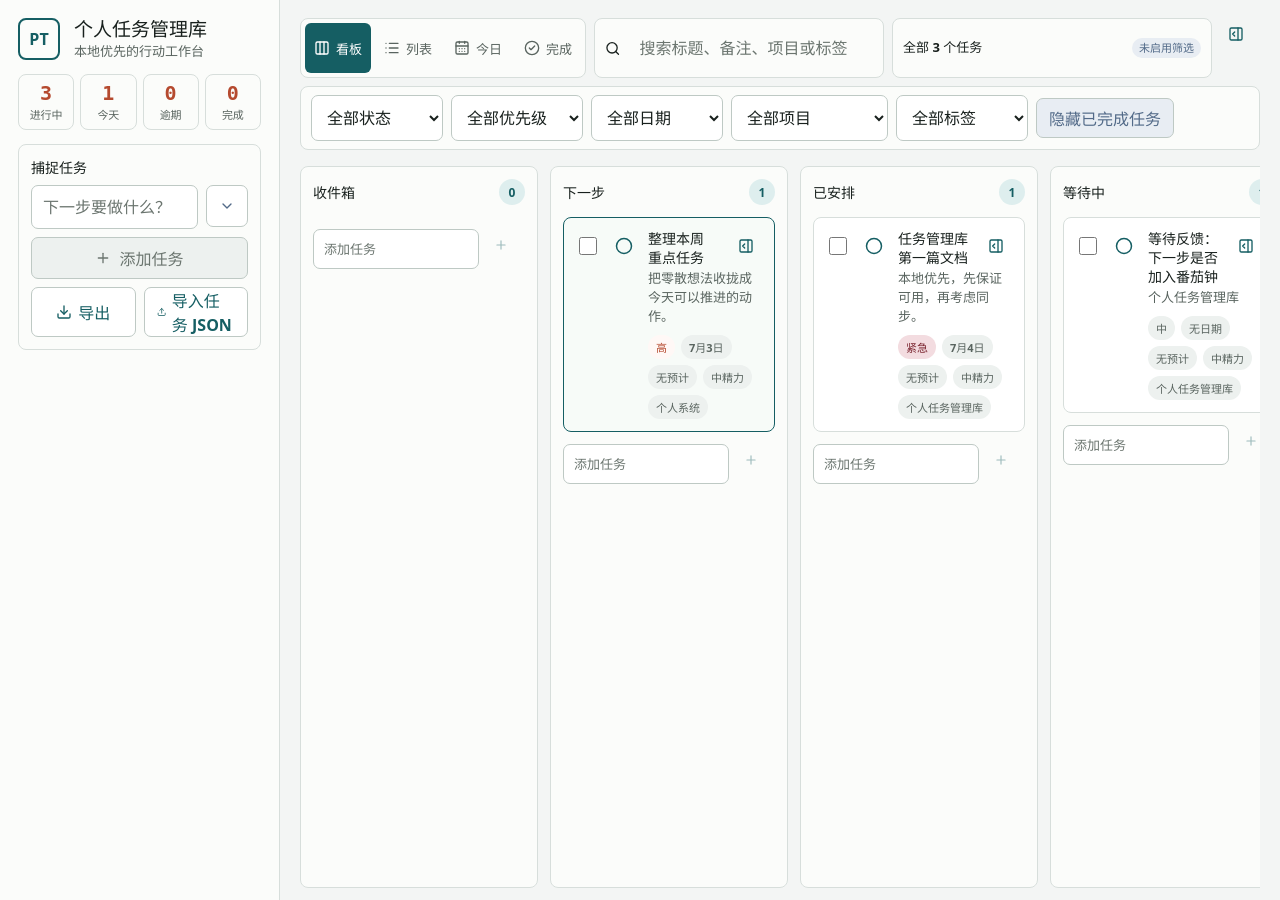
Test: TaskWorkspace › filters tasks by project and label, then clears filters
The width and height of the screenshot is (1280, 900).
Step 1. Select "个人系统" in the dropdown named "按项目筛选" → {"x": 810, "y": 118}, box [731,95,888,141]
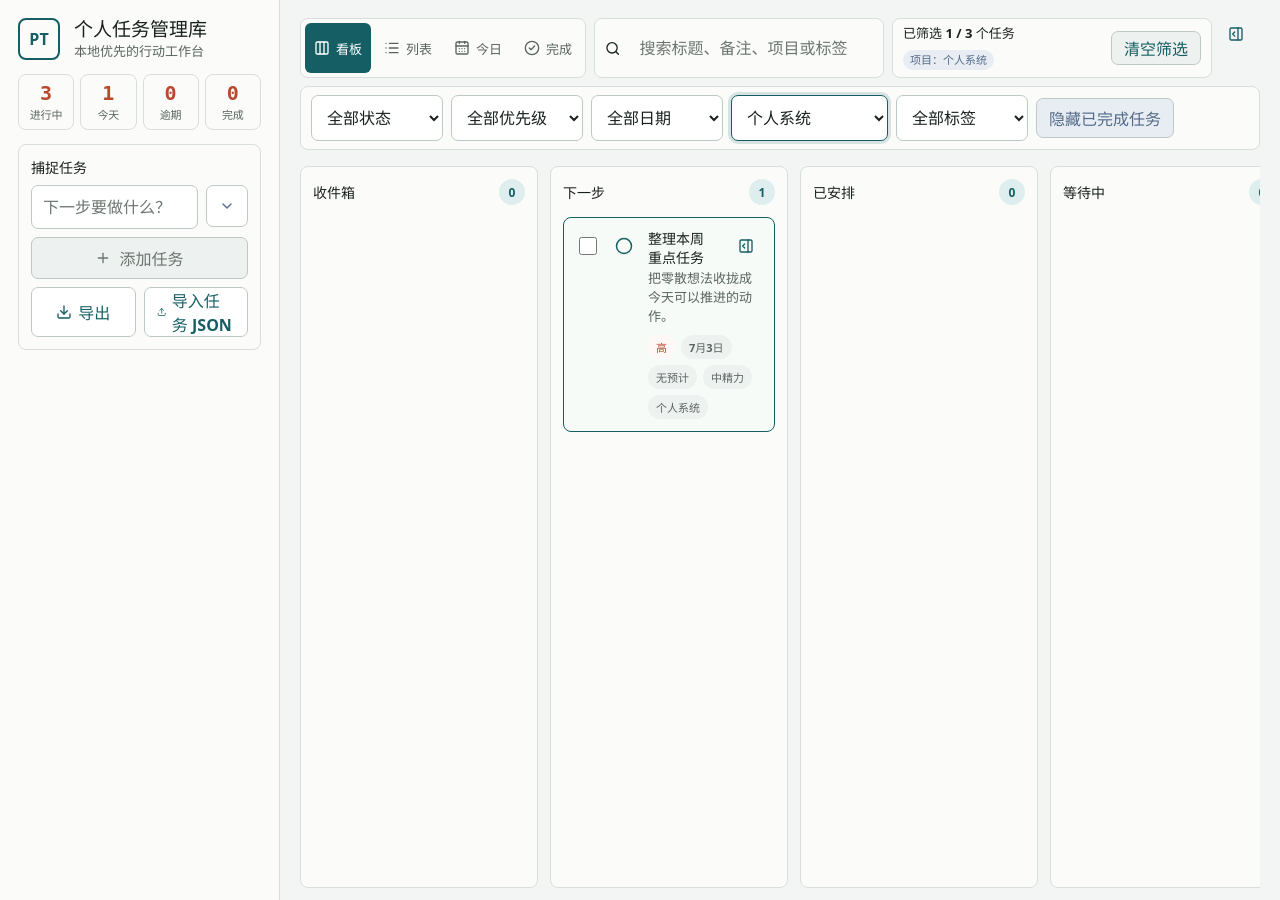
Step 2. Select "个人" in the dropdown named "按标签筛选" → {"x": 962, "y": 118}, box [896,95,1028,141]
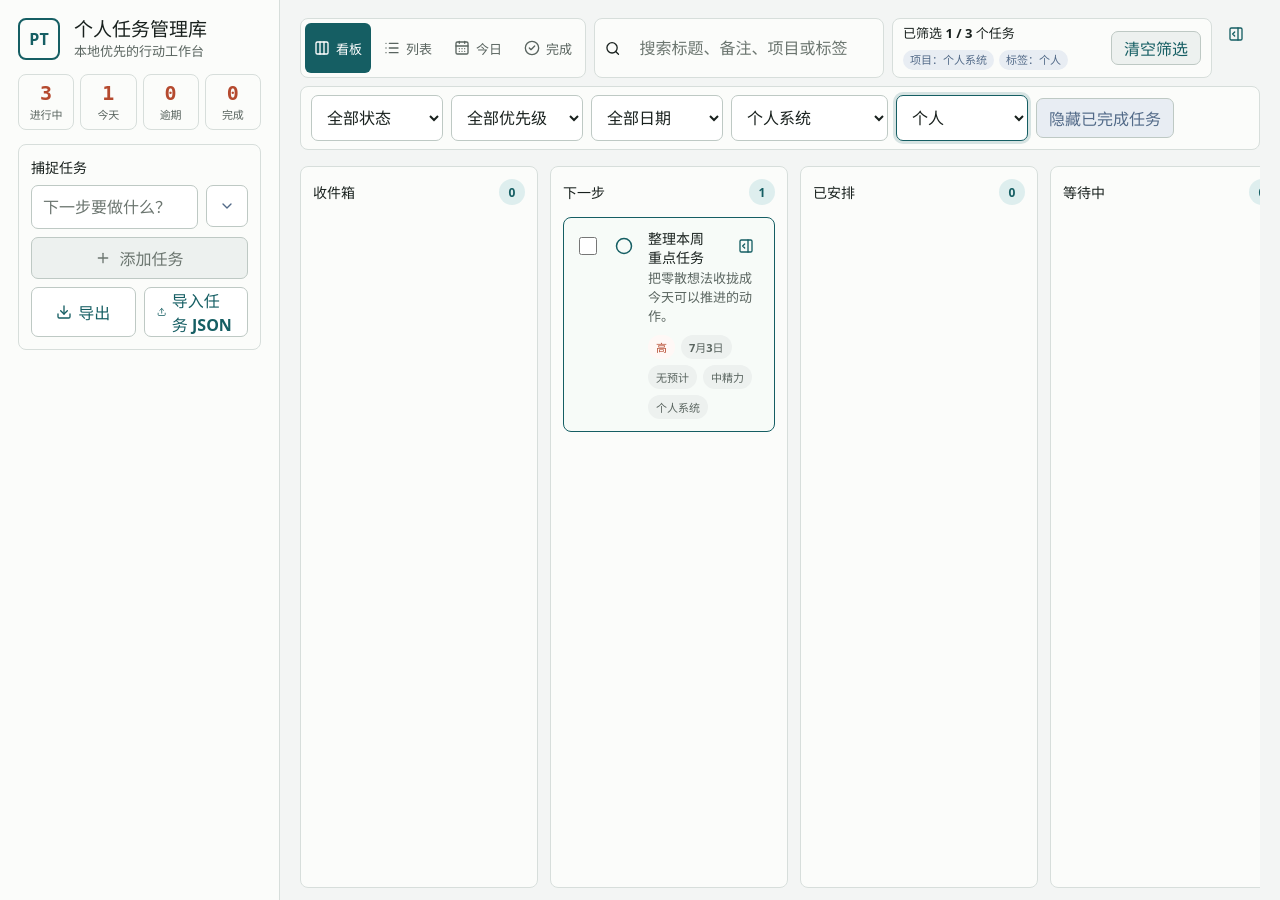
Expected: the heading "整理本周重点任务" is shown, [648,229,704,267]
Expected: the heading "任务管理库第一篇文档" is not shown
Step 3. Click the button "清空筛选" → {"x": 1156, "y": 48}, box [1111,31,1201,65]
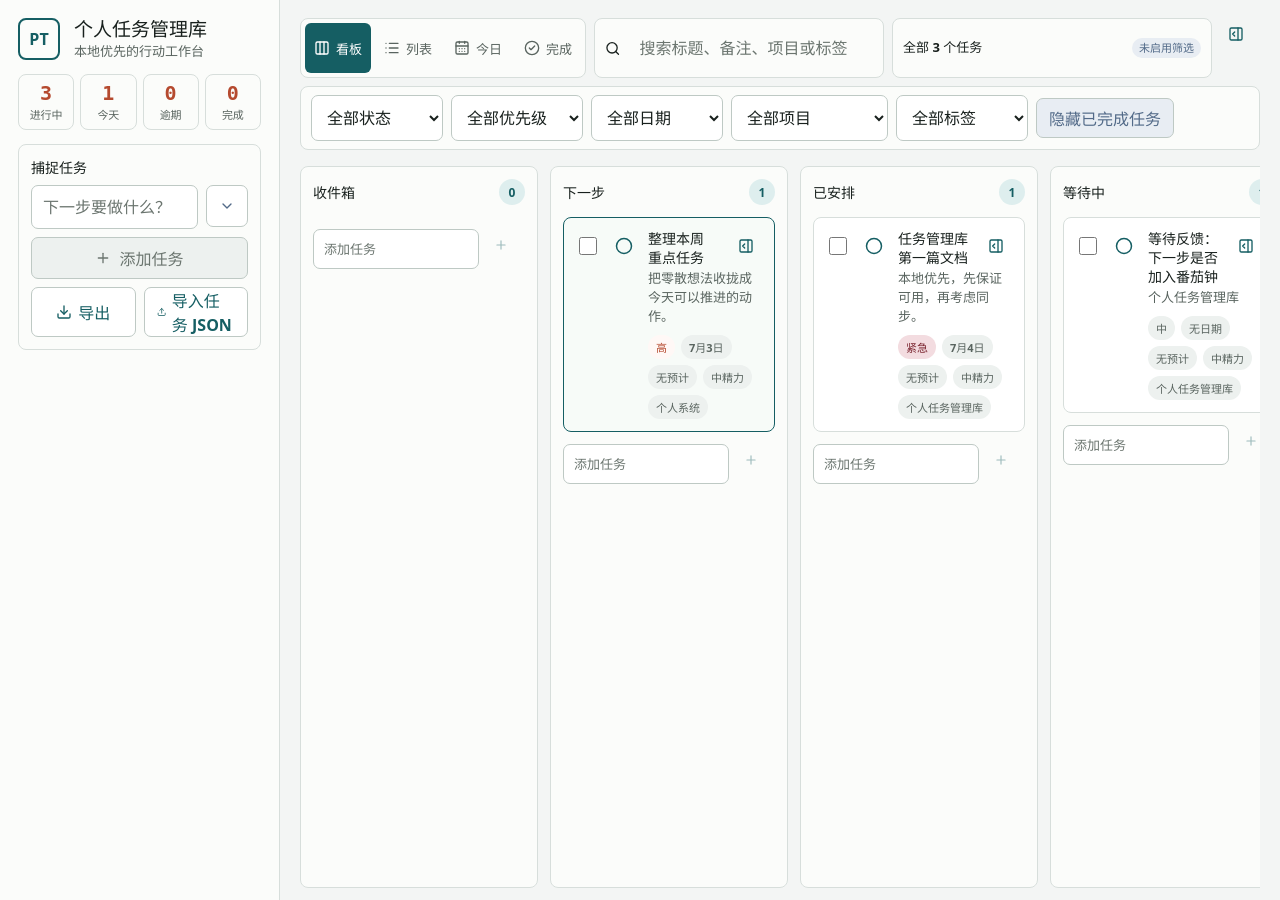
Expected: the heading "整理本周重点任务" is shown, [648,229,704,267]
Now the heading "任务管理库第一篇文档" is shown, box [898,229,968,267]
